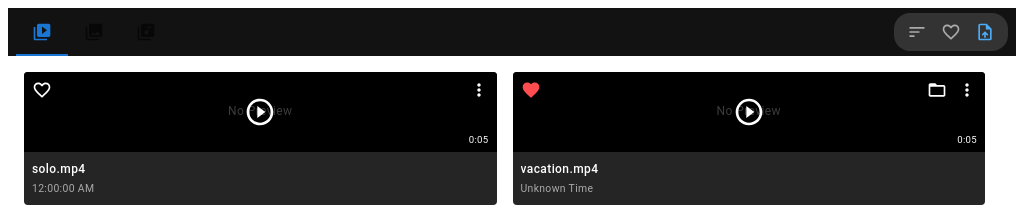
Test: AssetBrowser Component › clears the family scope when escape is pressed
Click the button named "Open family".
click(937, 90)  # box x1=923 y1=76 x2=951 y2=104
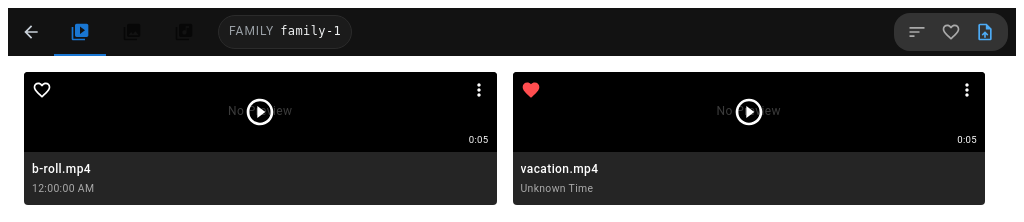
Result: the element with test id "asset-browser-family-scope" is shown at x1=218 y1=15 x2=352 y2=49
Result: the text "b-roll.mp4" is shown at x1=32 y1=162 x2=91 y2=176
Result: the button "solo.mp4" is gone
Press Escape
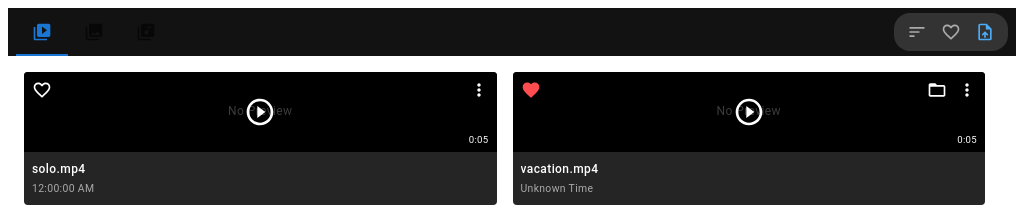
Result: the element with test id "asset-browser-family-scope" is gone
Result: the text "solo.mp4" is shown at x1=32 y1=162 x2=86 y2=176
Result: the button "b-roll.mp4" is gone
